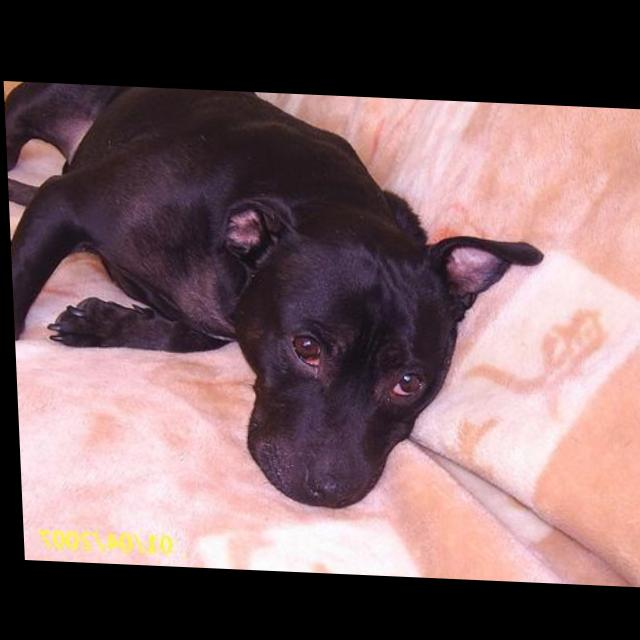staffford: (4, 82, 552, 515)
